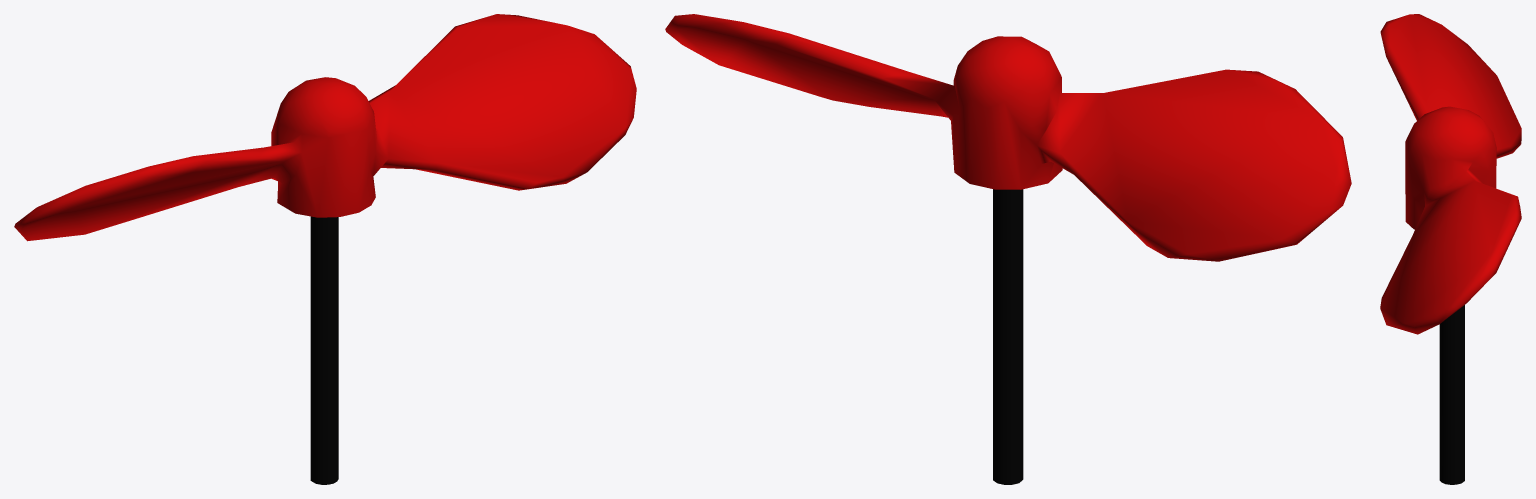
Rendered from MightyFlyPropeller.obj.
The picture shows the model from 3 angles, left to right: view 1: azimuth 30°, elevation 25°; view 2: azimuth 150°, elevation 25°; view 3: azimuth 270°, elevation 25°; orthographic projection. The views are drawn at different scales.
Size of the model in its own units: 9.43 by 5.81 by 2.02.
Materials: 2 (2 with a texture image).
